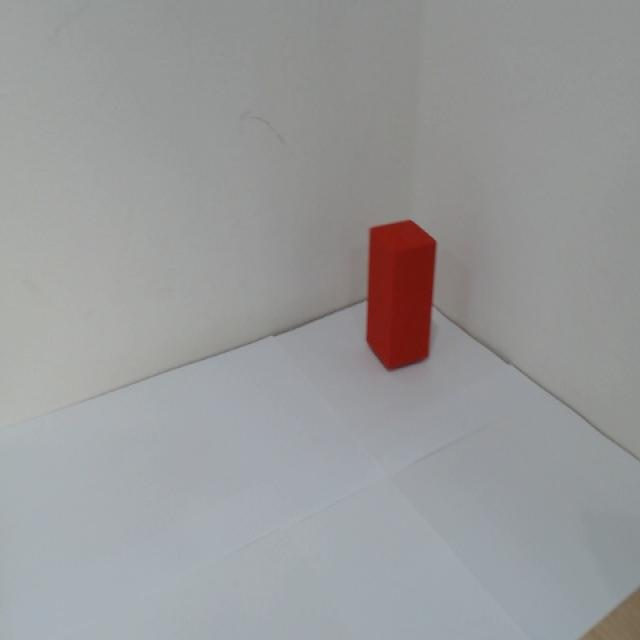cube: (363, 214, 439, 378)
